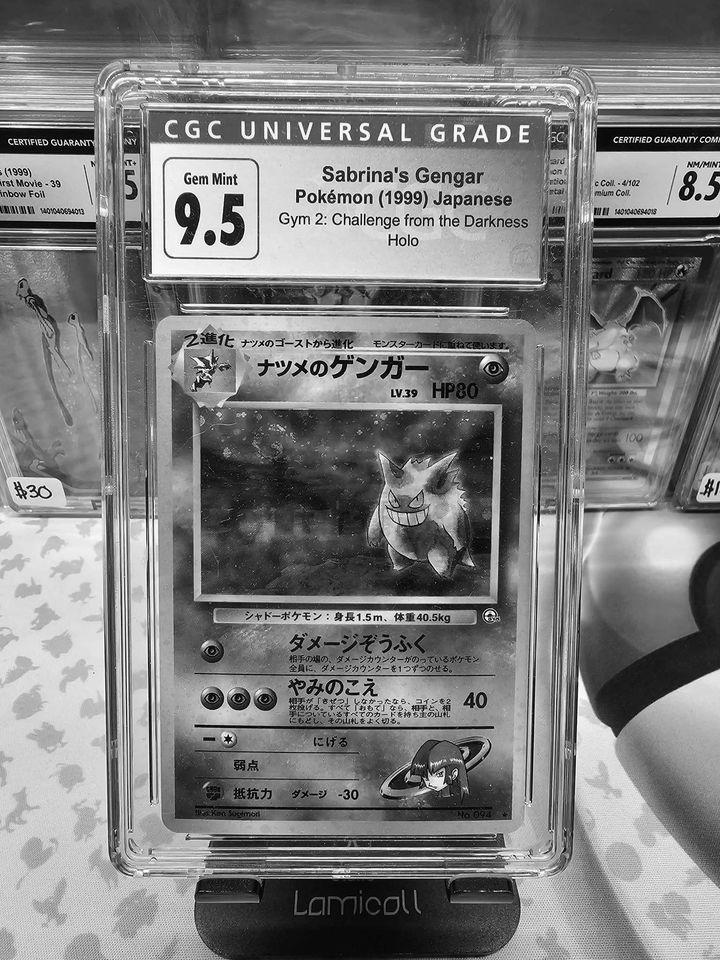card: (152, 314, 540, 836)
